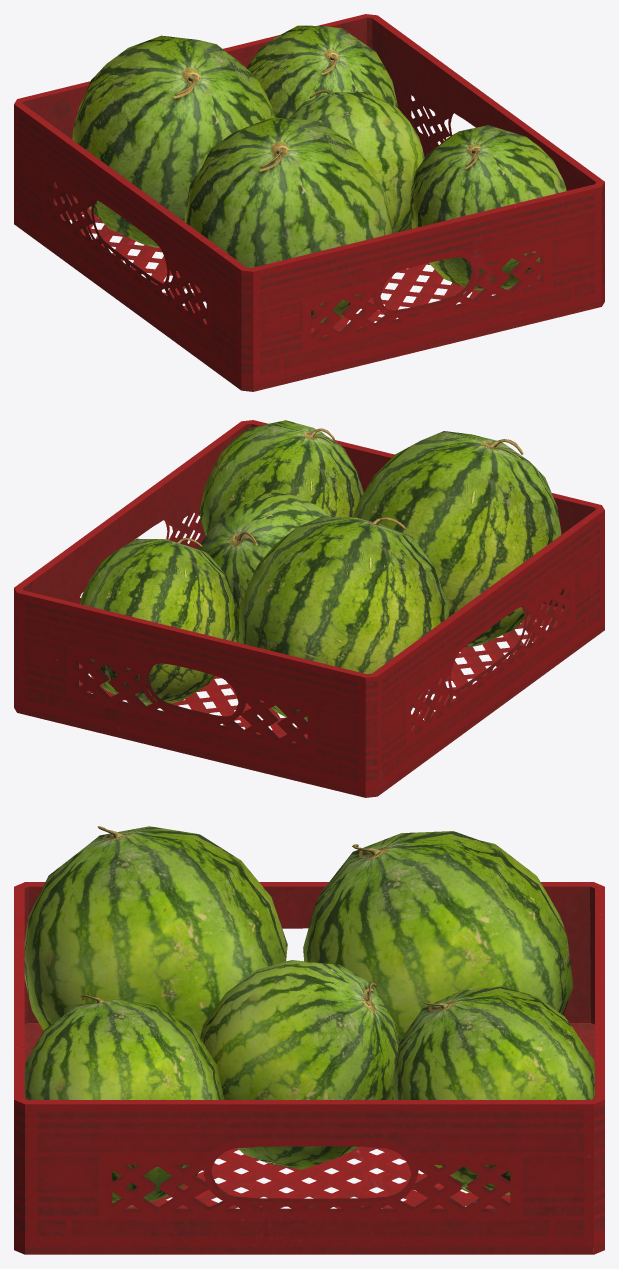
File: Prop_Watermelon_Crate.fbx
3 renders of one model, top to bottom at view 1: azimuth 30°, elevation 25°; view 2: azimuth 150°, elevation 25°; view 3: azimuth 270°, elevation 25°, orthographic. The views are drawn at different scales.
Parts seen in each view (by area): view 1: Box_Red, Watermelon; view 2: Box_Red, Watermelon; view 3: Watermelon, Box_Red.
Boxes of the visible parts, left/top/right/bottom form: Box_Red: left=14, top=14, right=604, bottom=391; Watermelon: left=72, top=25, right=566, bottom=327; Box_Red: left=14, top=420, right=604, bottom=797; Watermelon: left=80, top=420, right=561, bottom=721; Watermelon: left=24, top=826, right=594, bottom=1206; Box_Red: left=14, top=882, right=604, bottom=1254.
Bounding box in the file's own units: 28.84 × 15.25 × 32.42.
